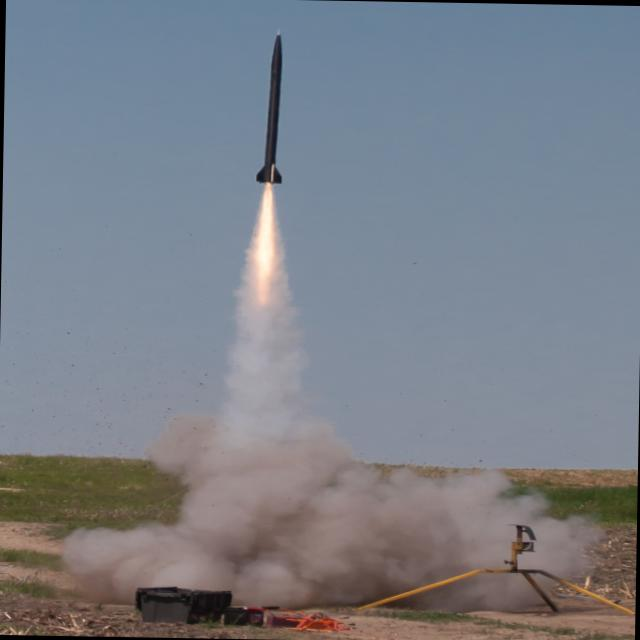rocket: (246, 21, 300, 282)
